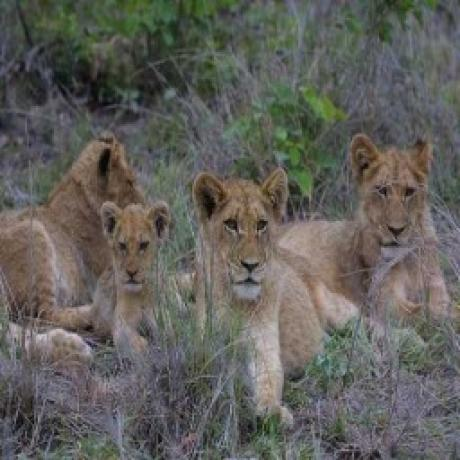Lion: (191, 165, 340, 394), (275, 130, 447, 324), (0, 130, 140, 326), (98, 202, 196, 360)
